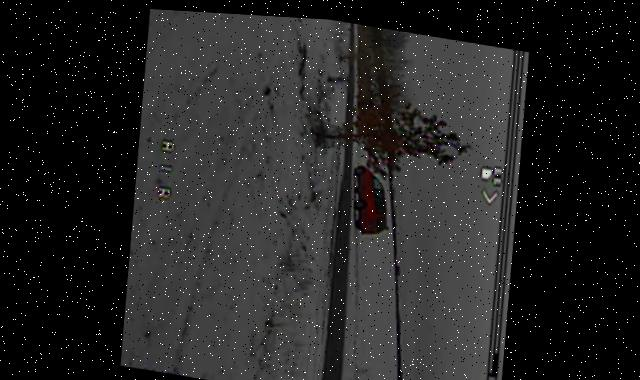car: (344, 154, 396, 241)
